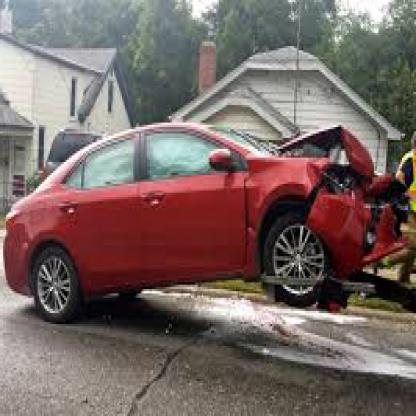dent: (306, 137, 386, 229), (238, 178, 260, 246)
